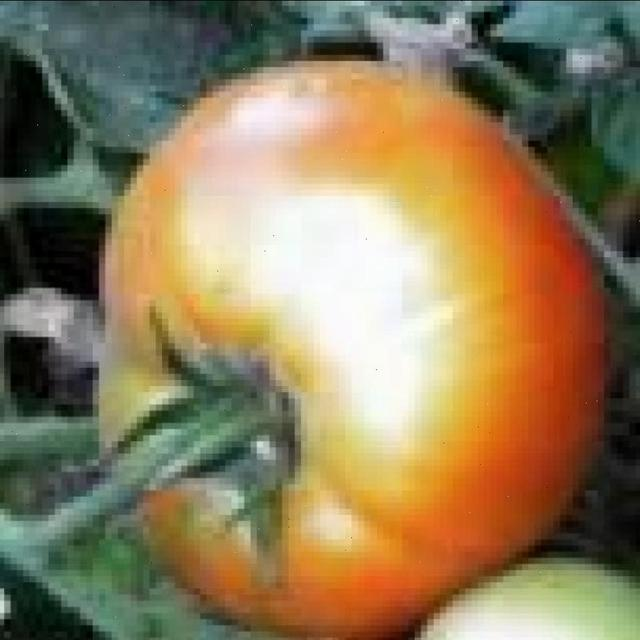Sunscald Fruit: (104, 118, 319, 294)
